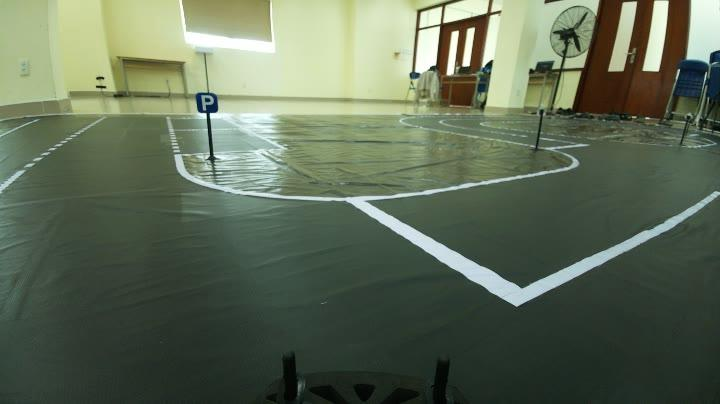parking: (192, 88, 219, 117)
